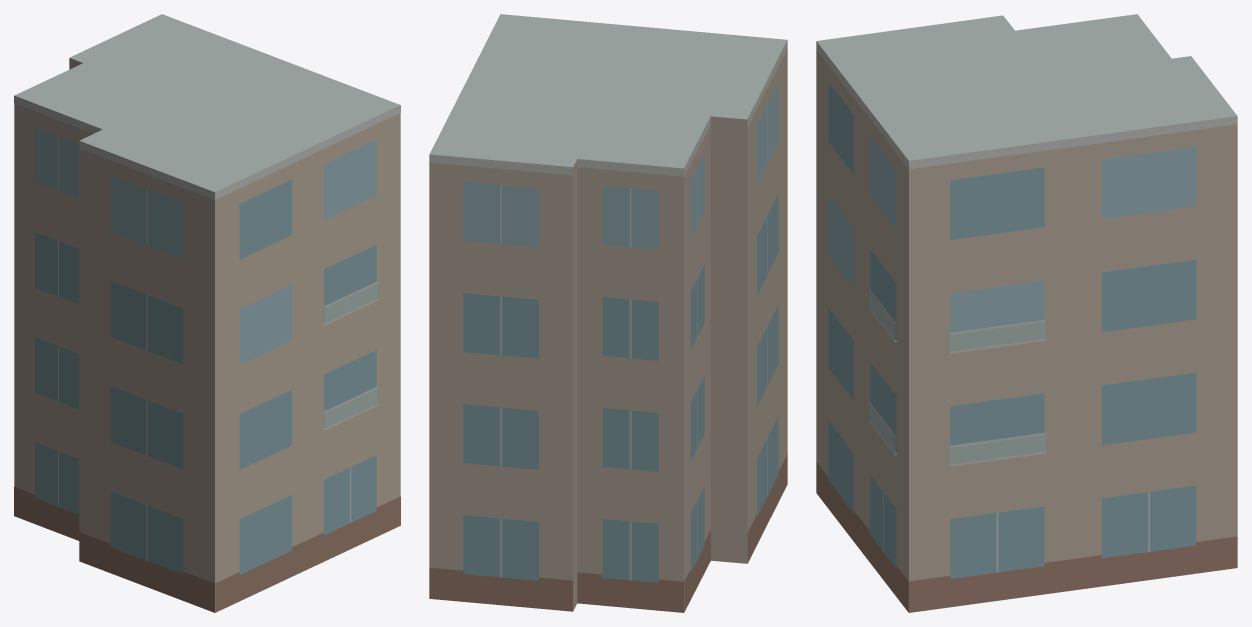
Rendered from survey-upis-32611461.glb.
3 views of the same model, side by side, from view 1: azimuth 30°, elevation 25°; view 2: azimuth 150°, elevation 25°; view 3: azimuth 270°, elevation 25° (orthographic). The views are drawn at different scales.
Visible parts, largest first — view 1: survey-upis-32611461.tmp; view 2: survey-upis-32611461.tmp; view 3: survey-upis-32611461.tmp.
Part boxes in pixels (<box>): survey-upis-32611461.tmp: <box>14,14,400,612</box>; survey-upis-32611461.tmp: <box>429,14,787,612</box>; survey-upis-32611461.tmp: <box>816,14,1237,612</box>.
Bounding box in the file's own units: 9.21 × 13.2 × 11.16.
